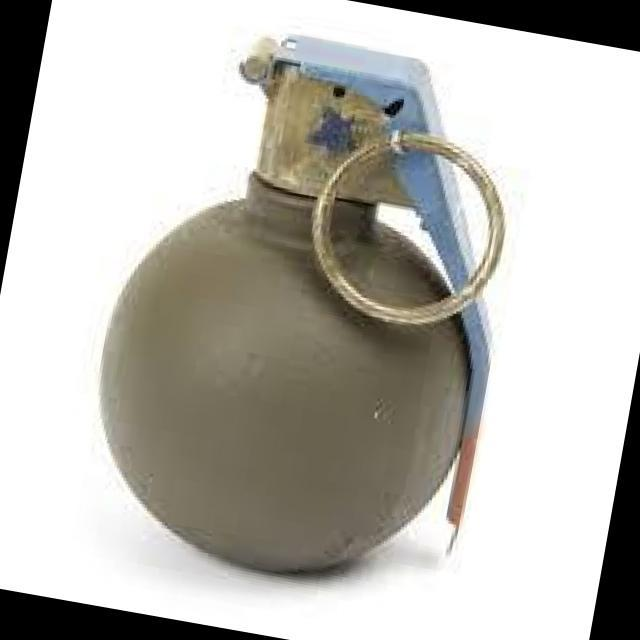grenade: (63, 4, 540, 601)
